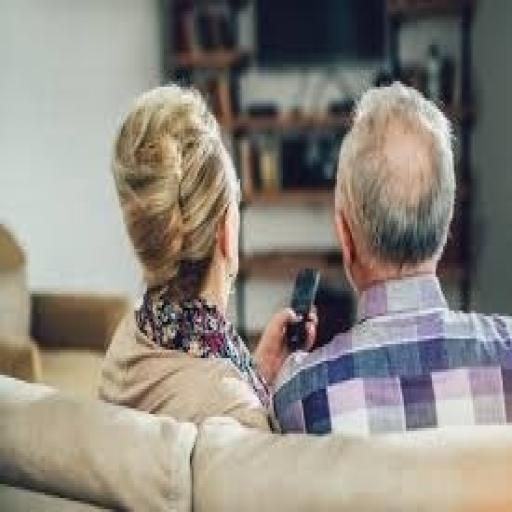sitting: (95, 73, 508, 436)
